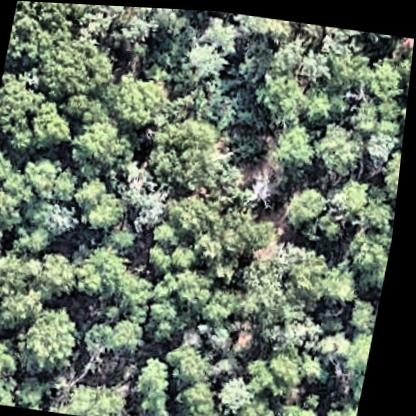tree-top: (143, 114, 234, 199), (0, 71, 84, 159), (147, 261, 223, 350), (35, 31, 120, 104), (109, 158, 188, 233), (19, 301, 96, 376), (280, 251, 369, 310), (5, 0, 74, 73), (272, 178, 348, 243), (102, 66, 171, 136), (247, 337, 322, 400), (70, 116, 140, 181), (70, 174, 140, 235), (88, 311, 164, 367), (328, 169, 400, 228), (307, 116, 372, 178), (0, 247, 47, 331), (133, 352, 194, 416), (31, 248, 91, 310), (271, 114, 325, 176), (0, 151, 39, 235), (0, 325, 39, 407), (82, 243, 137, 299), (18, 154, 73, 205), (343, 229, 394, 284), (73, 377, 142, 416), (197, 9, 248, 57), (358, 123, 407, 172), (255, 70, 305, 118), (218, 369, 268, 416), (179, 38, 232, 80), (364, 51, 410, 98), (347, 298, 385, 335), (308, 413, 360, 416)
